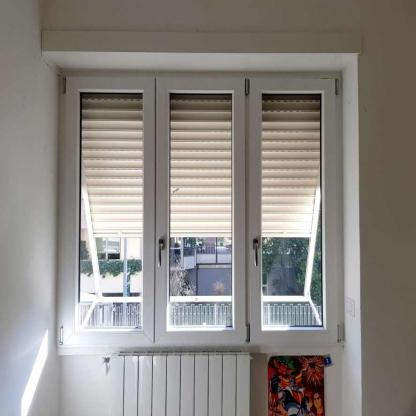Window: (67, 75, 340, 362)
